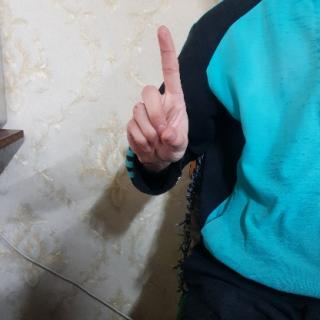BAA: (124, 23, 189, 168)
